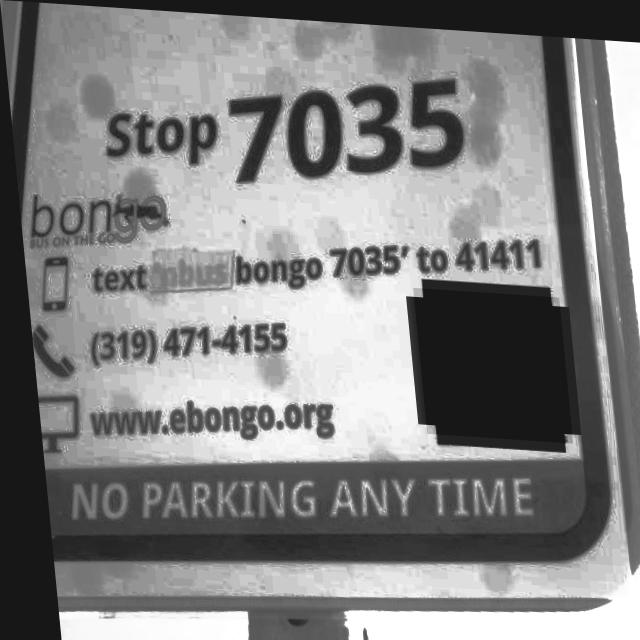qr_code: (408, 282, 565, 436)
